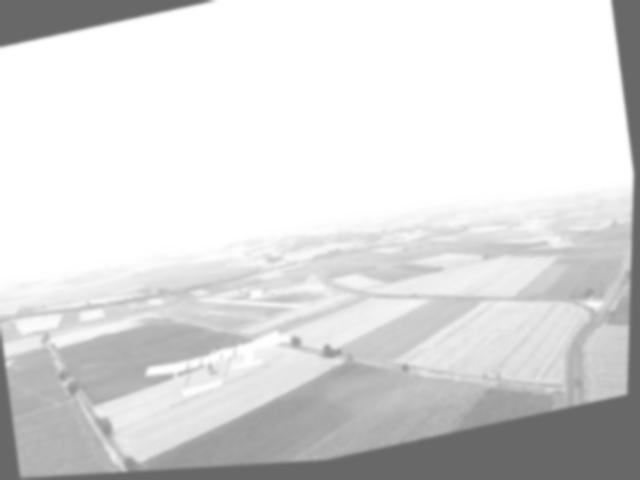hedef: (140, 324, 294, 417)
